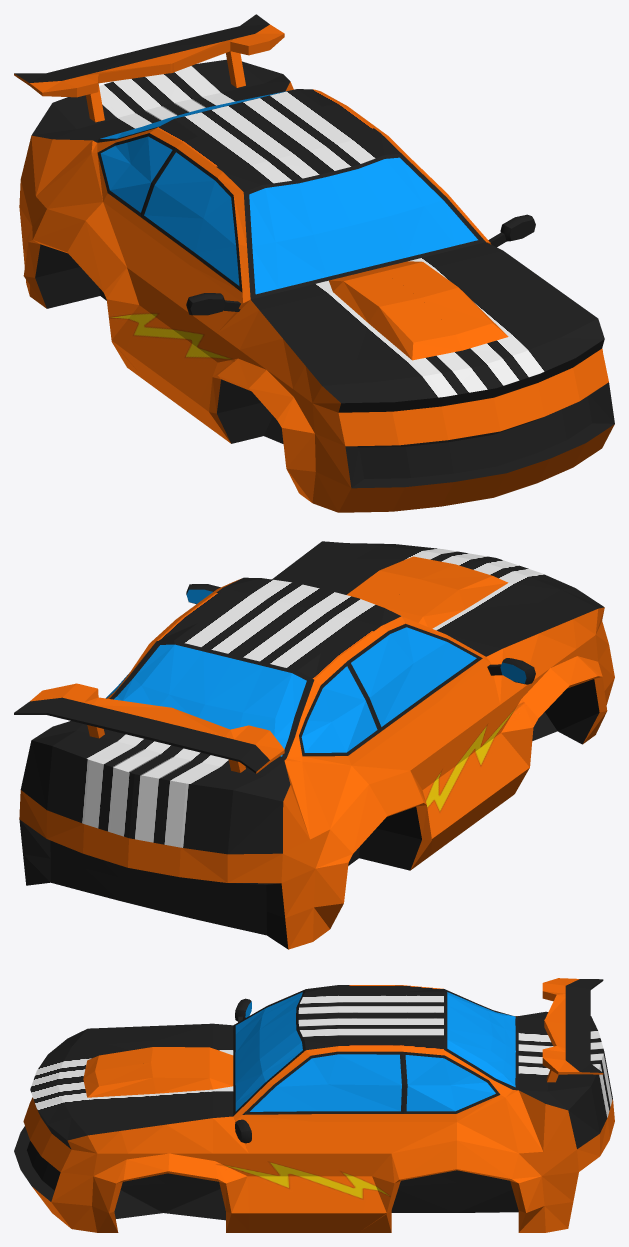
Rendered from vehicleNS.gltf.
3 renders of one model, top to bottom at view 1: azimuth 30°, elevation 25°; view 2: azimuth 150°, elevation 25°; view 3: azimuth 270°, elevation 25°, orthographic. The views are drawn at different scales.
Visible parts, largest first — view 1: Car; view 2: Car; view 3: Car.
Boxes of the visible parts, x1,y1,x2,y2 form: Car: (14,14,614,512); Car: (14,541,614,949); Car: (14,978,614,1232).
Size of the model in its own units: 1.13 by 0.6355 by 2.13.
1 material, 1 textured.
